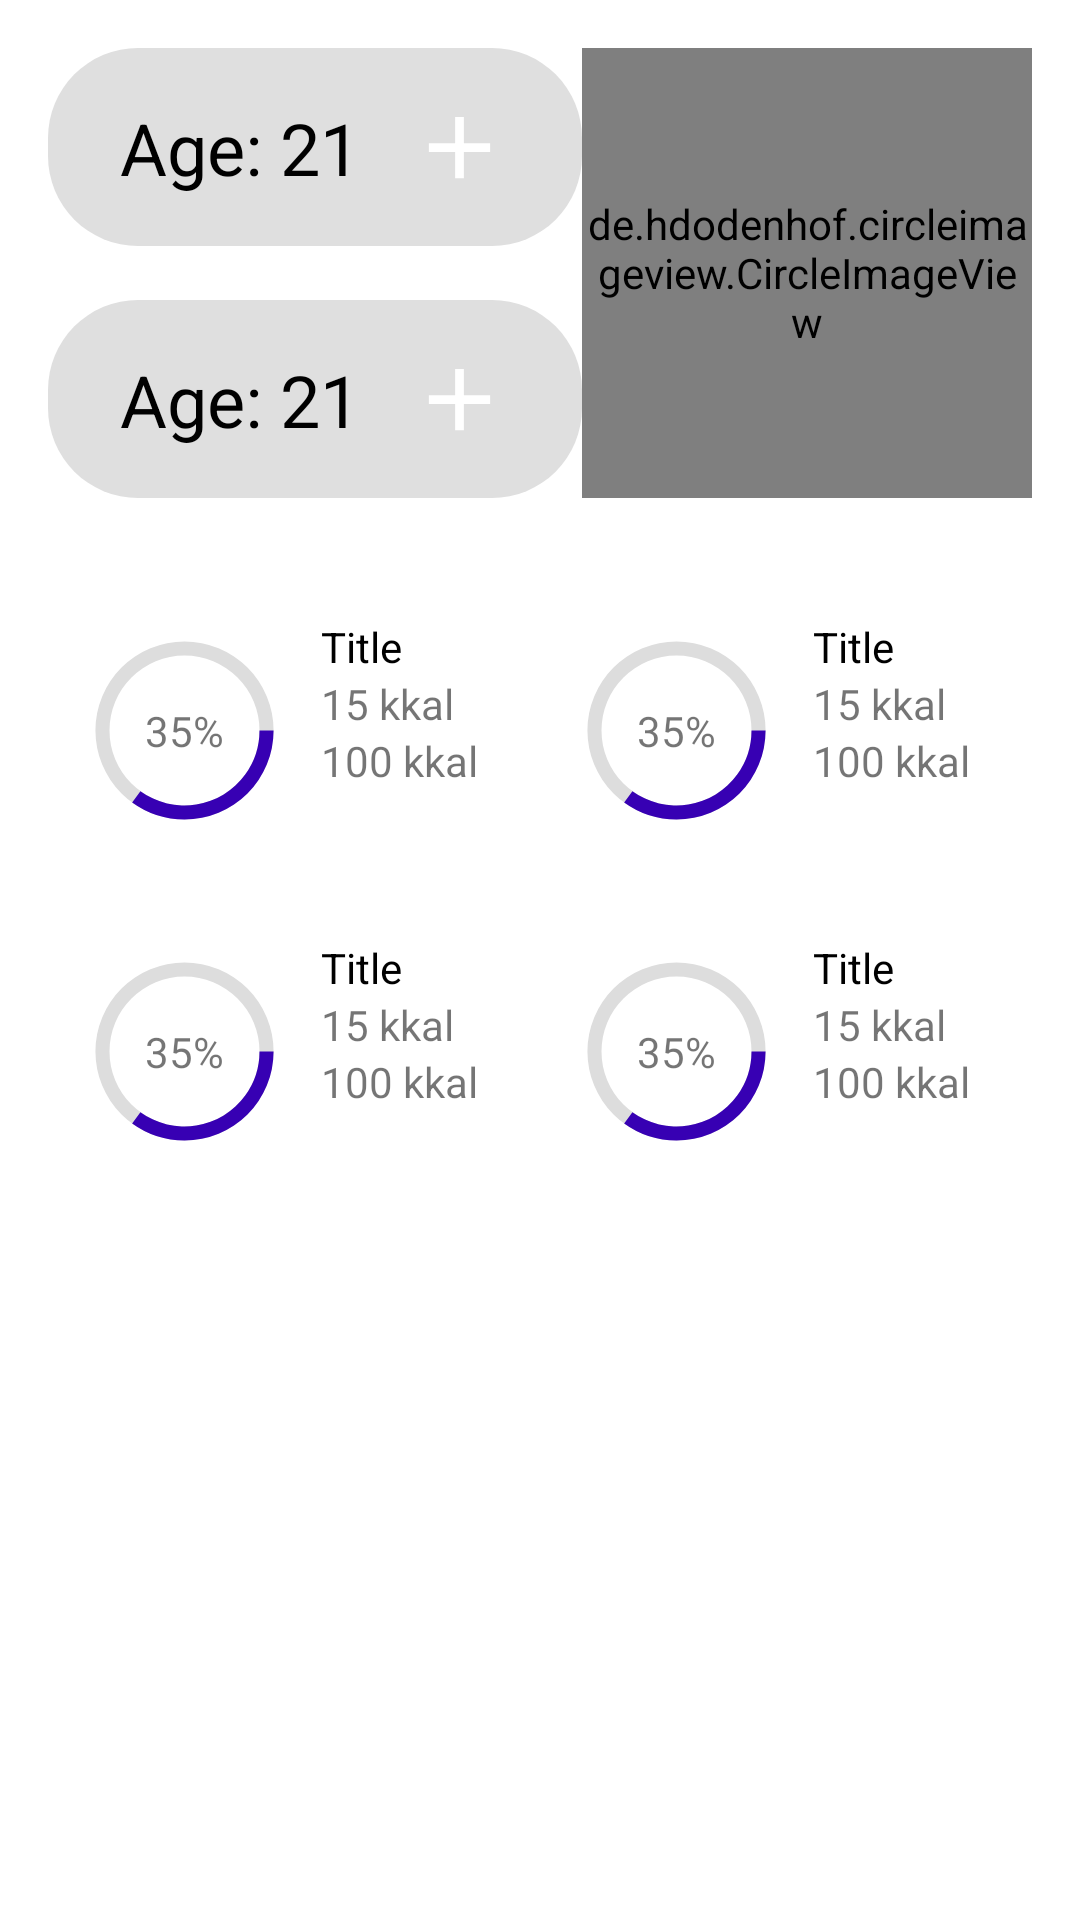

Icon bounding boxes for this 1080 × 1920 phone screenshot, format (x1, y1, x2, y2):
plus: (429, 117, 490, 178), (429, 369, 490, 430)
